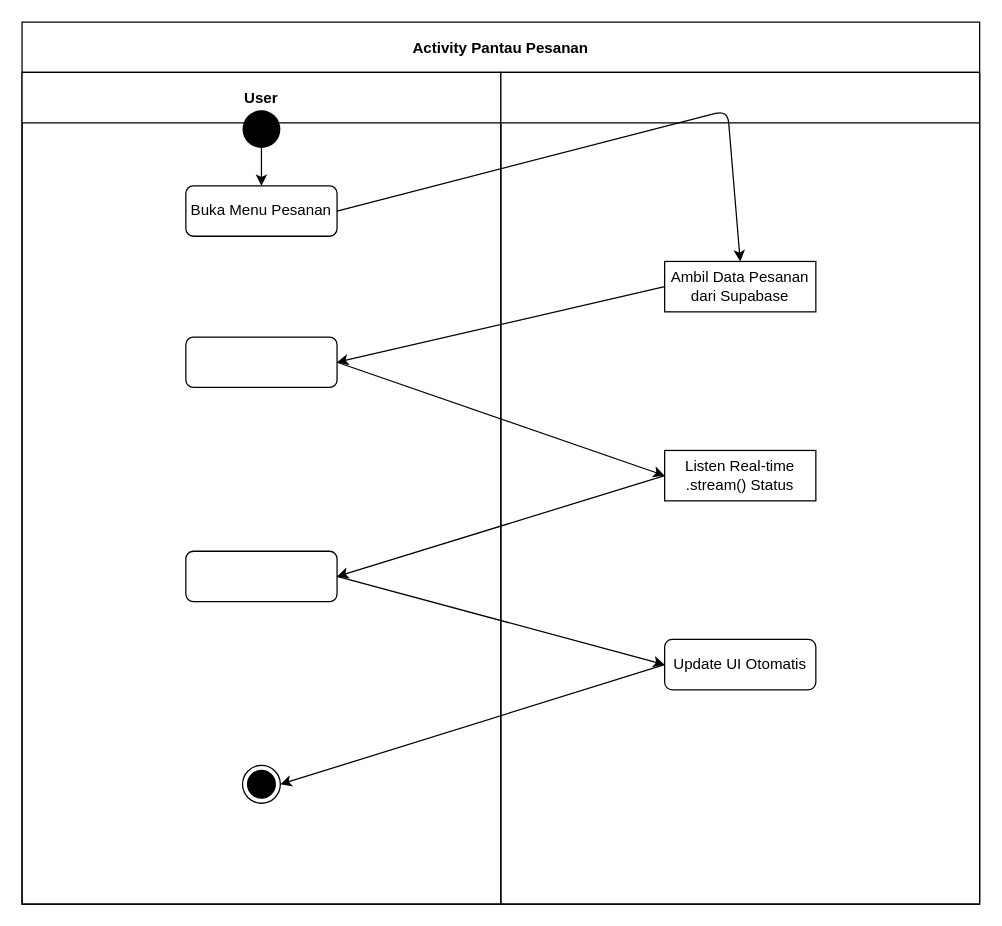
This 1002x926 diagram has some shape labels left out. The shapes that lost their labels are listed below. From the top down, each one's box as (x1, y1, x2, y2) in pixels, then its label:
(185, 336, 337, 387): Lihat Status & Detail Transaksi
(500, 71, 980, 904): Sistem
(185, 550, 337, 602): Terima Notifikasi Perubahan Status
